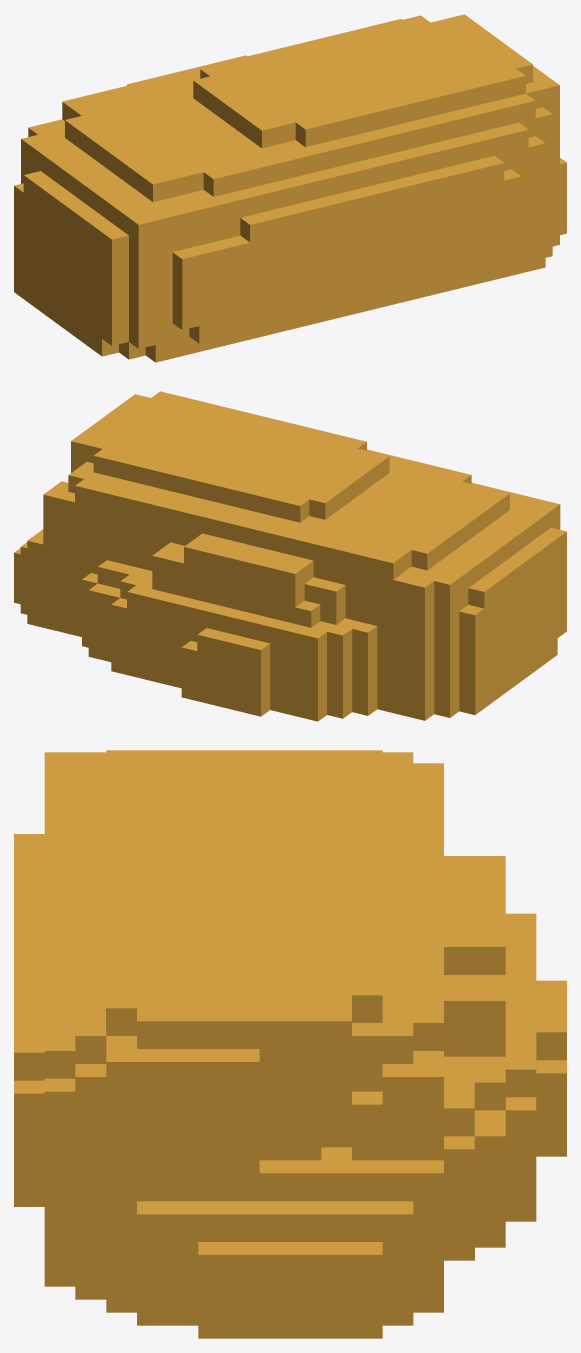
Rendered from RockFlat_mesh.fbx.
3 renders of one model, top to bottom at view 1: azimuth 30°, elevation 25°; view 2: azimuth 150°, elevation 25°; view 3: azimuth 270°, elevation 25°, orthographic. The views are drawn at different scales.
Visible parts, largest first — view 1: RockLarge; view 2: RockLarge; view 3: RockLarge.
Part boxes in pixels (x1=…): RockLarge: x1=14, y1=14, x2=566, y2=362; RockLarge: x1=14, y1=391, x2=566, y2=721; RockLarge: x1=14, y1=750, x2=566, y2=1338.
Size of what is drawn, in the model's own units: 290 by 100 by 180.
